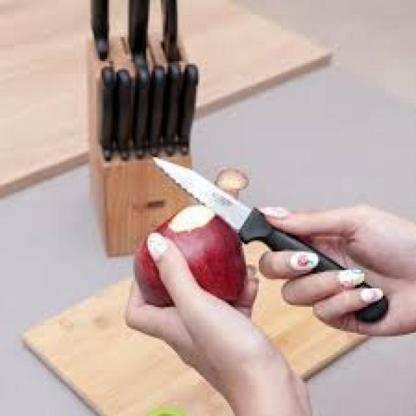Knife: (153, 116, 396, 340)
